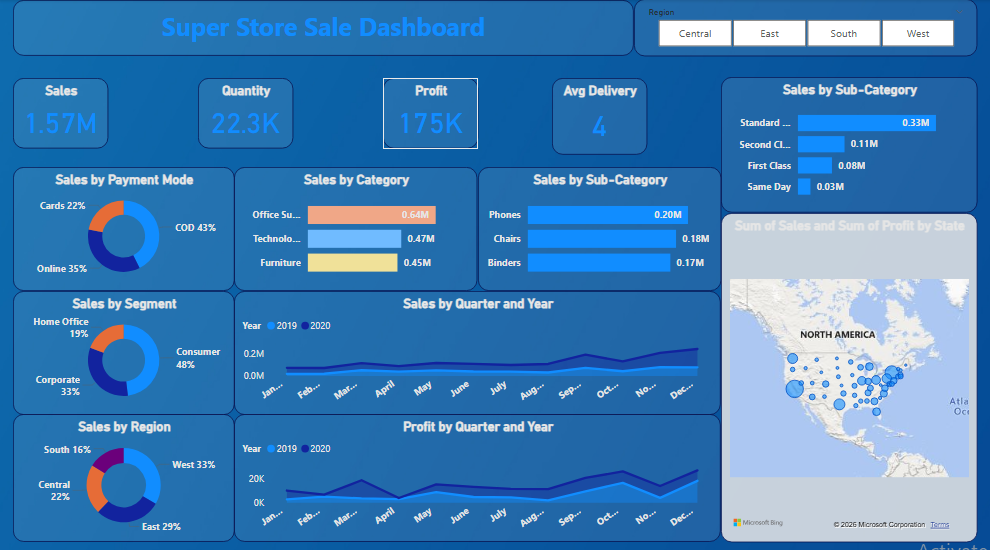

Layout of this report page (visuals, bound fields, positions):
{"tool":"powerbi","page":{"name":"Page 1","canvas":[1280,720],"ordinal":0},"visuals":[{"type":"clusteredBarChart","title":"Sales by Category","fields":{"Y":["Sum(SuperStore_Sales_Dataset.Sales)"],"Category":["SuperStore_Sales_Dataset.Category"]},"box":[302.4,216.7,314.1,159.6],"z":0},{"type":"clusteredBarChart","title":"Sales by Sub-Category","fields":{"Y":["Sum(SuperStore_Sales_Dataset.Sales)"],"Category":["SuperStore_Sales_Dataset.Sub-Category"]},"box":[616.5,216.7,314.1,159.6],"z":1000},{"type":"clusteredBarChart","title":"Sales by Sub-Category","fields":{"Y":["Sum(SuperStore_Sales_Dataset.Sales)"],"Category":["SuperStore_Sales_Dataset.Ship Mode"]},"box":[930.6,100.8,330.9,174.7],"z":2000},{"type":"stackedAreaChart","title":"Sales by Quarter and Year","fields":{"Y":["Sum(SuperStore_Sales_Dataset.Sales)"],"Series":["SuperStore_Sales_Dataset.Order Date.Variation.Date Hierarchy.Year"],"Category":["SuperStore_Sales_Dataset.Order Date.Variation.Date Hierarchy.Month"]},"box":[302.4,376.3,628.2,159.6],"z":3000},{"type":"stackedAreaChart","title":"Profit by Quarter and Year","fields":{"Series":["SuperStore_Sales_Dataset.Order Date.Variation.Date Hierarchy.Year"],"Y":["Sum(SuperStore_Sales_Dataset.Profit)"],"Category":["SuperStore_Sales_Dataset.Order Date.Variation.Date Hierarchy.Month"]},"box":[302.4,535.9,628.2,164.6],"z":4000},{"type":"map","fields":{"Category":["SuperStore_Sales_Dataset.State"],"Size":["Sum(SuperStore_Sales_Dataset.Sales)"]},"box":[930.6,275.5,330.9,425],"z":5000},{"type":"donutChart","title":"Sales by Region","fields":{"Category":["SuperStore_Sales_Dataset.Region"],"Y":["Sum(SuperStore_Sales_Dataset.Sales)"]},"box":[16.8,535.9,285.6,164.6],"z":6000},{"type":"donutChart","title":"Sales by Segment","fields":{"Category":["SuperStore_Sales_Dataset.Segment"],"Y":["Sum(SuperStore_Sales_Dataset.Sales)"]},"box":[16.8,376.3,285.6,159.6],"z":7000},{"type":"donutChart","title":"Sales by Payment Mode","fields":{"Category":["SuperStore_Sales_Dataset.Payment Mode"],"Y":["Sum(SuperStore_Sales_Dataset.Sales)"]},"box":[16.8,216.7,285.6,159.6],"z":8000},{"type":"slicer","fields":{"Values":["SuperStore_Sales_Dataset.Region"]},"box":[818.1,0,443.5,73.9],"z":9000},{"type":"textbox","box":[16.8,1.7,801.3,72.2],"z":10000},{"type":"card","title":"Sales","fields":{"Values":["Sum(SuperStore_Sales_Dataset.Sales)"]},"box":[16.8,102,122.6,90.7],"z":11000},{"type":"card","title":"Quantity","fields":{"Values":["Sum(SuperStore_Sales_Dataset.Quantity)"]},"box":[255.3,102.5,122.6,90.7],"z":12000},{"type":"card","title":"Profit","fields":{"Values":["Sum(SuperStore_Sales_Dataset.Profit)"]},"box":[493.9,102.5,122.6,90.7],"z":13000},{"type":"card","title":"Avg Delivery","fields":{"Values":["Avg(SuperStore_Sales_Dataset.AvgDelivery)"]},"box":[712.2,102.5,122.6,99.1],"z":13001}]}

Visuals, with their boxes in screenshot pixels (x1, y1, x2, y2), scaled from the page's 1280x720 canvas onto the 990x550 screenshot:
"Sales by Category" clusteredBarChart: (234,166,477,287)
"Sales by Sub-Category" clusteredBarChart: (477,166,720,287)
"Sales by Sub-Category" clusteredBarChart: (720,77,976,210)
"Sales by Quarter and Year" stackedAreaChart: (234,287,720,409)
"Profit by Quarter and Year" stackedAreaChart: (234,409,720,535)
map - SuperStore_Sales_Dataset.State x Sum(SuperStore_Sales_Dataset.Sales): (720,210,976,535)
"Sales by Region" donutChart: (13,409,234,535)
"Sales by Segment" donutChart: (13,287,234,409)
"Sales by Payment Mode" donutChart: (13,166,234,287)
slicer - SuperStore_Sales_Dataset.Region: (633,0,976,56)
textbox: (13,1,633,56)
"Sales" card: (13,78,108,147)
"Quantity" card: (197,78,292,148)
"Profit" card: (382,78,477,148)
"Avg Delivery" card: (551,78,646,154)
